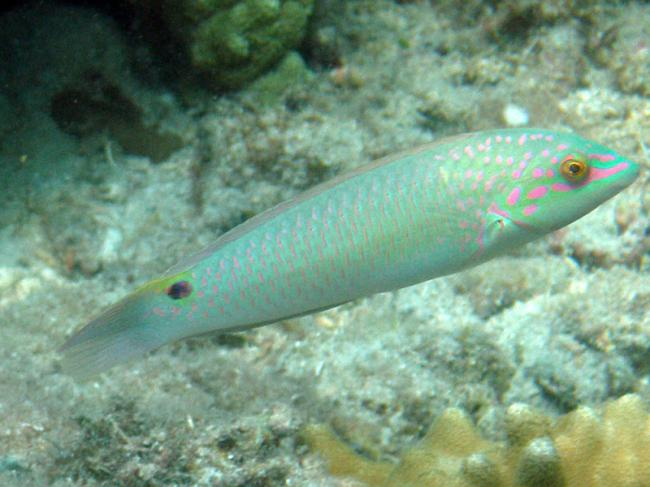fish: (56, 125, 641, 387)
